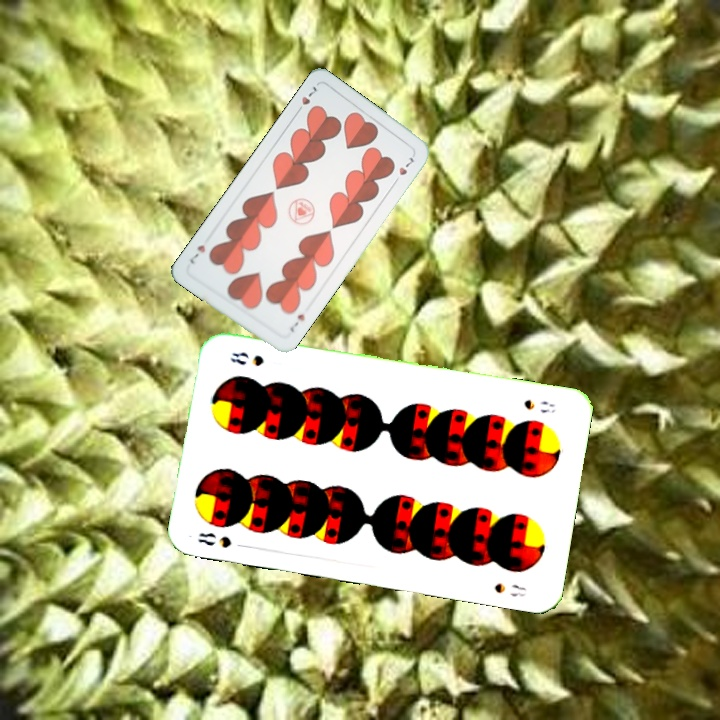H7: (292, 82, 321, 116), (286, 309, 307, 335)
S8: (195, 528, 234, 551), (519, 395, 558, 416)
